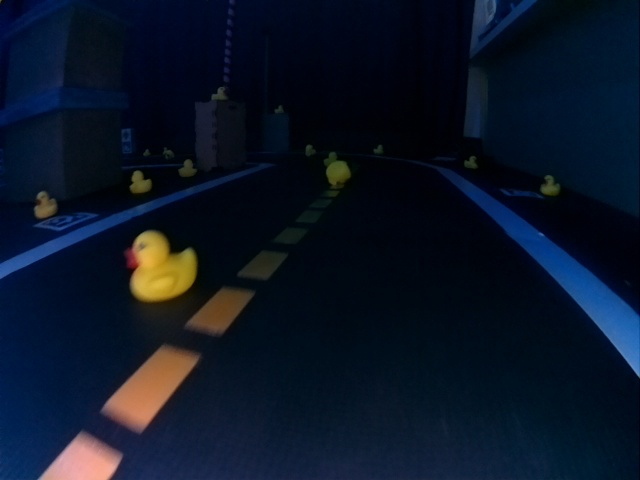Duckie: (126, 232, 197, 302), (326, 161, 350, 186), (33, 191, 56, 217), (129, 171, 151, 193), (539, 175, 560, 197), (179, 159, 197, 177), (212, 86, 227, 100), (464, 157, 477, 169), (325, 151, 337, 163), (373, 145, 383, 154), (274, 105, 284, 114), (164, 150, 173, 159), (305, 146, 314, 154)
QR code: (500, 188, 540, 197)
